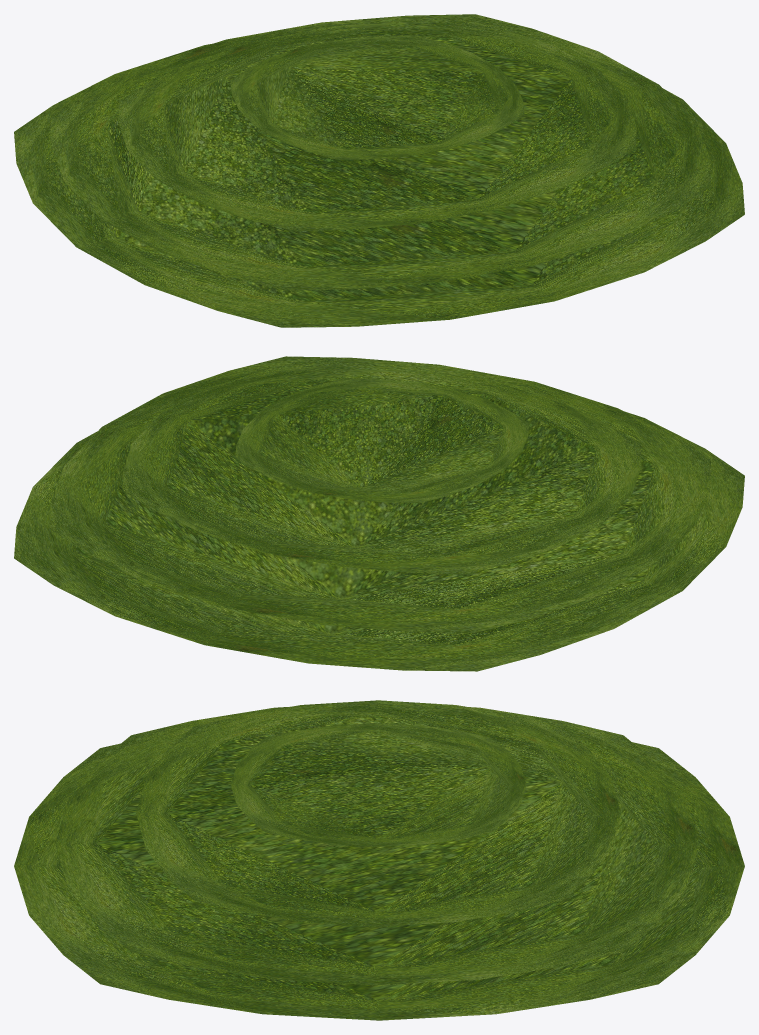
Rendered from round_moss.glb.
The picture shows the model from 3 angles, top to bottom: view 1: azimuth 30°, elevation 25°; view 2: azimuth 150°, elevation 25°; view 3: azimuth 270°, elevation 25°; orthographic projection. The views are drawn at different scales.
Visible parts, largest first — view 1: Plane.002, Plane.001, Plane, Plane.003; view 2: Plane.001, Plane.002, Plane, Plane.003; view 3: Plane.001, Plane.002, Plane, Plane.003.
Part boxes in pixels (<box>): Plane.002: <box>118,18,636,231</box>; Plane.001: <box>50,14,711,290</box>; Plane: <box>14,43,744,327</box>; Plane.003: <box>230,35,524,159</box>; Plane.001: <box>50,356,711,632</box>; Plane.002: <box>123,361,641,574</box>; Plane: <box>14,411,744,671</box>; Plane.003: <box>235,378,529,502</box>; Plane.001: <box>55,707,699,985</box>; Plane.002: <box>136,700,620,926</box>; Plane: <box>14,742,744,1020</box>; Plane.003: <box>230,723,526,846</box>.
Bounding box in the file's own units: 1.81 × 0.2184 × 1.81.
4 materials, 4 textured.
